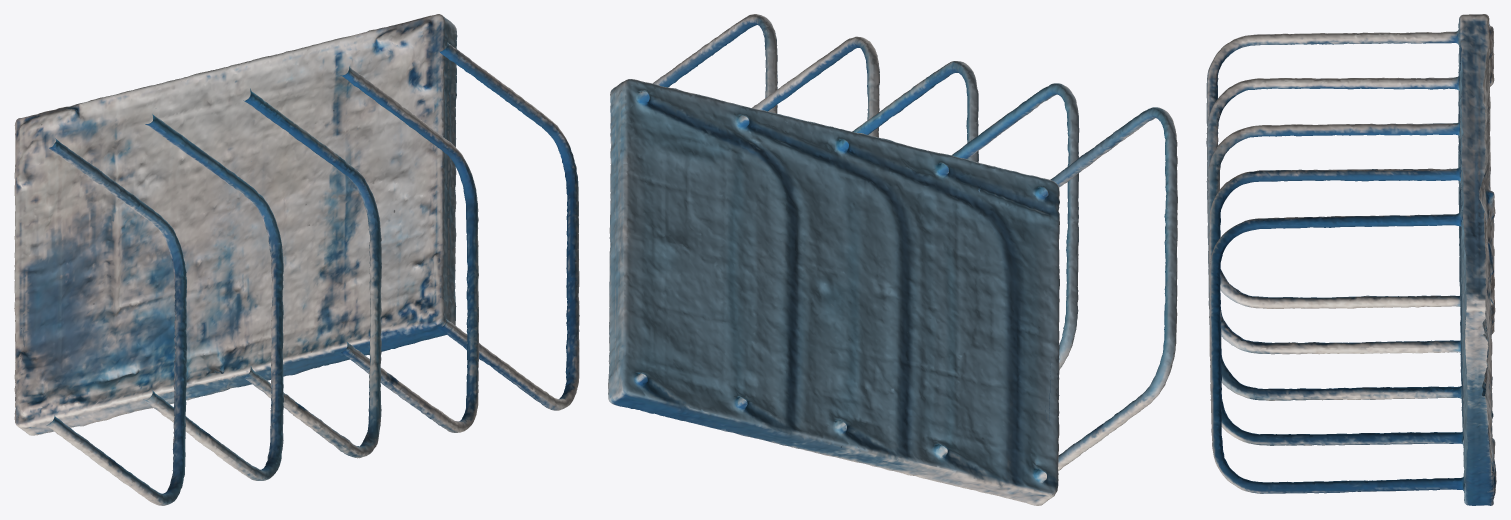
Rendered from sorter.glb.
3 views of the same model, side by side, from view 1: azimuth 30°, elevation 25°; view 2: azimuth 150°, elevation 25°; view 3: azimuth 270°, elevation 25° (orthographic). The views are drawn at different scales.
Size of the model in its own units: 1 by 0.7003 by 0.6106.
